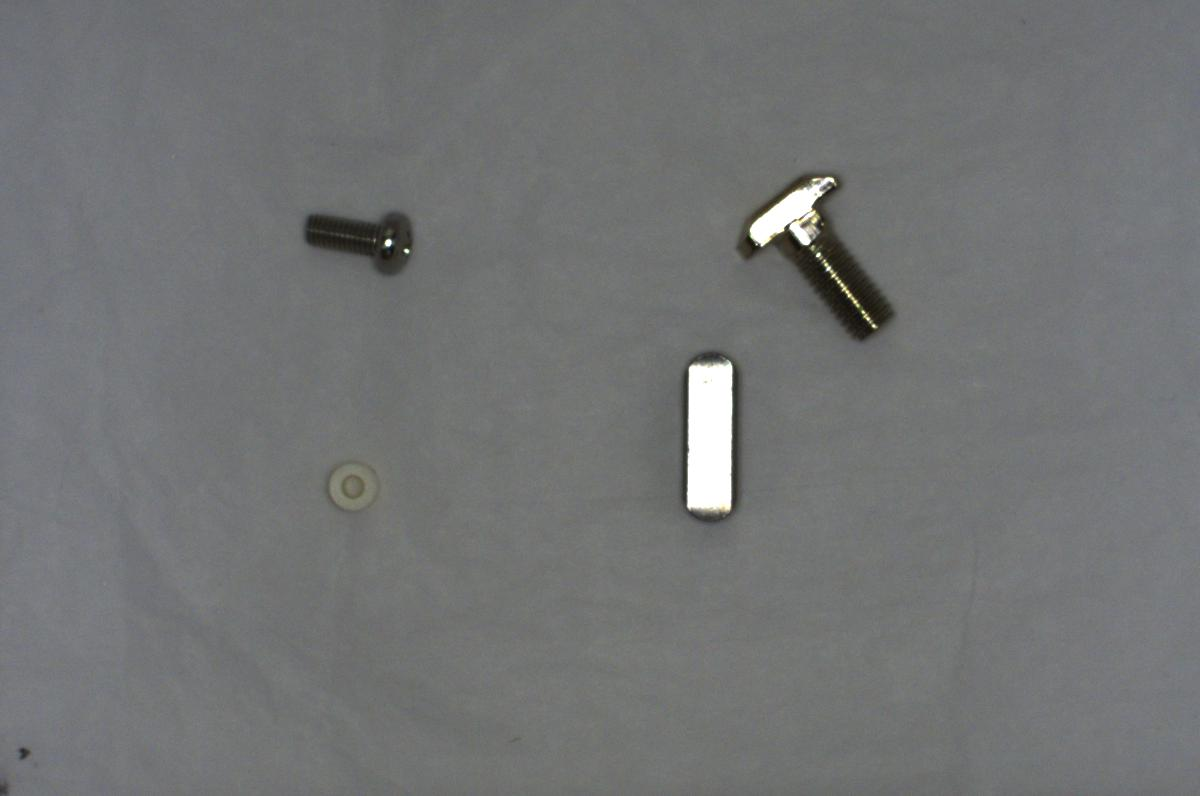Keybar: (668, 343, 744, 525)
Plastic cushion pillar: (321, 450, 384, 521)
Round head screw: (295, 205, 419, 279)
T-shaped screw: (735, 163, 894, 343)
